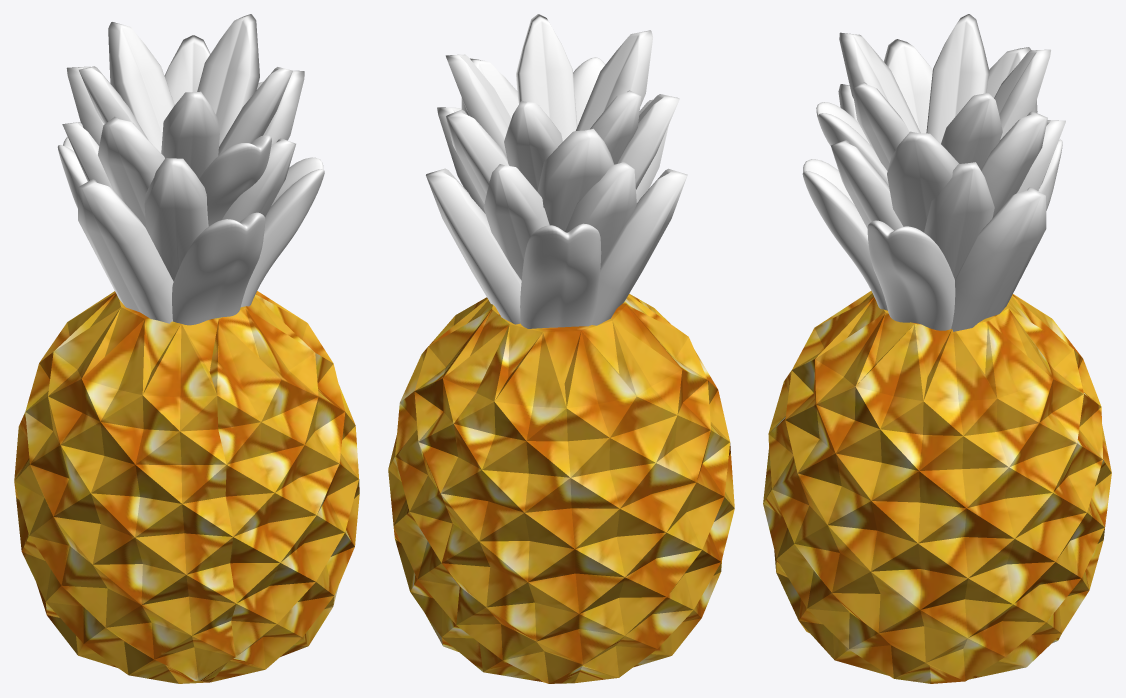
The model's file is Pineapple.fbx.
The picture shows the model from 3 angles, left to right: view 1: azimuth 30°, elevation 25°; view 2: azimuth 150°, elevation 25°; view 3: azimuth 270°, elevation 25°; orthographic projection.
Parts seen in each view (by area): view 1: Pineapple, Leaves; view 2: Pineapple, Leaves; view 3: Pineapple, Leaves.
Part boxes in pixels (left/top/right/bottom): Pineapple: left=14, top=291, right=359, bottom=683; Leaves: left=57, top=14, right=324, bottom=325; Pineapple: left=388, top=294, right=734, bottom=683; Leaves: left=426, top=14, right=687, bottom=328; Pineapple: left=763, top=291, right=1111, bottom=683; Leaves: left=802, top=14, right=1065, bottom=331.
Bounding box in the file's own units: 21.47 × 41.72 × 21.64.
Materials: 2 (1 with a texture image).
